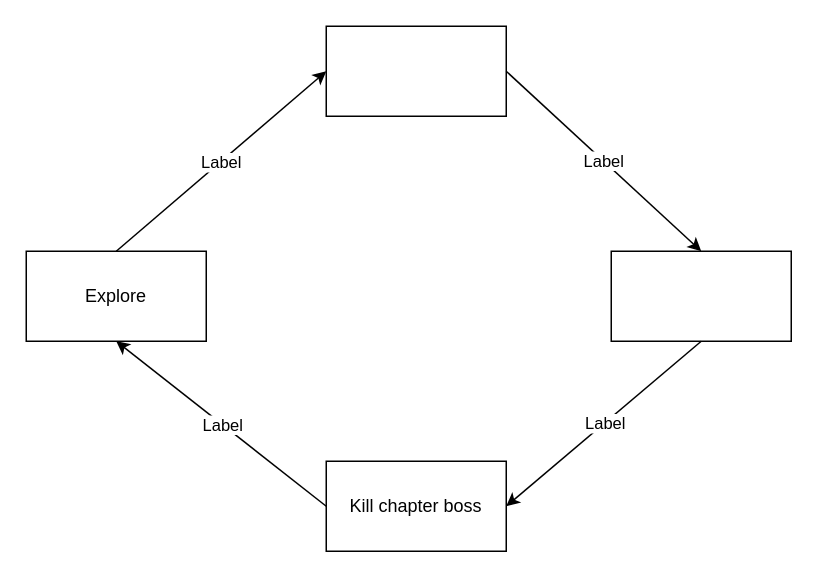
The diagram is 818 pixels wide and 578 high, and some of its shapes have lost their labels. The shapes that lost their labels are listed below. From the top down, each one's centre as x and y in pixels, then its label:
At point (415, 70): "Discover skill".
At point (700, 295): "Collaborate".
